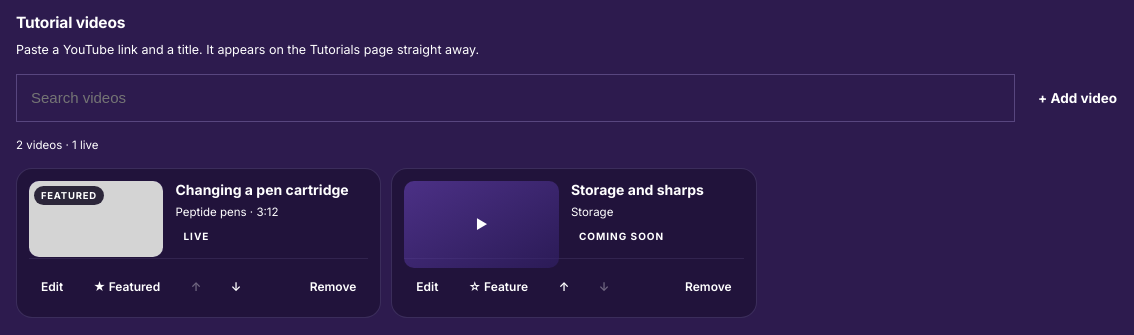
Test: VideosCard — browsing › says plainly when the search finds nothing
Expected: the list item "Changing a pen cartridge" is shown, [16,168,381,318]
Type "zzz" into the search field labelled "Search videos" at {"x": 516, "y": 98}, box [16,74,1015,122]
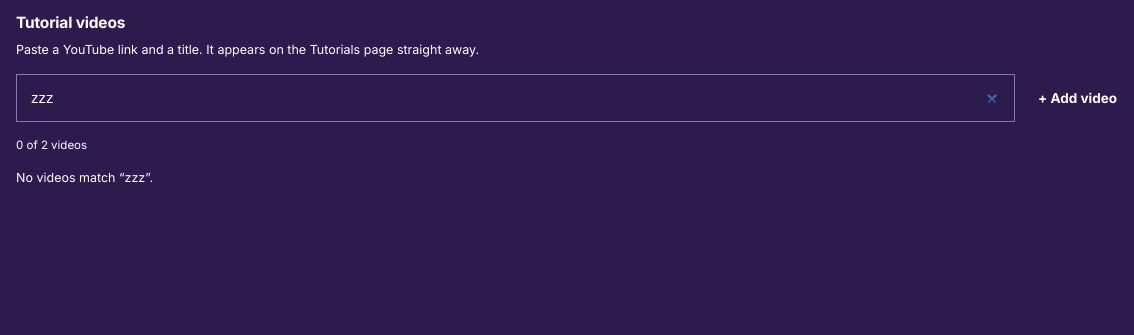
Expected: the text "No videos match “zzz”." is shown, [16,170,153,185]
